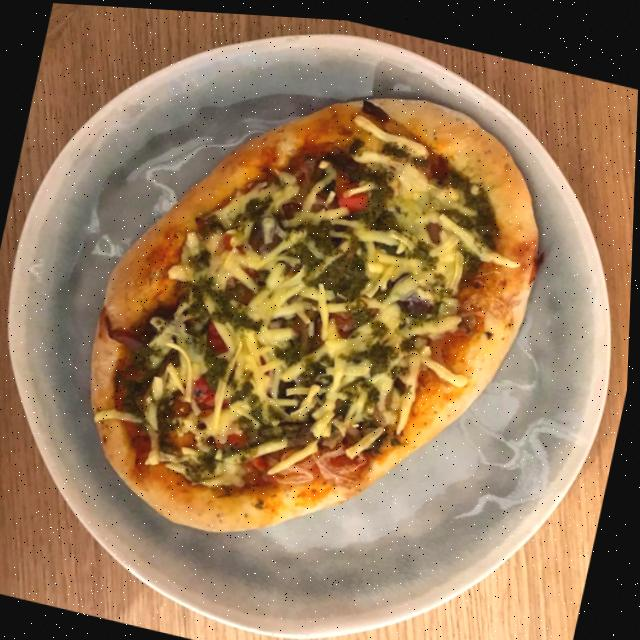pizza: (57, 28, 578, 595)
